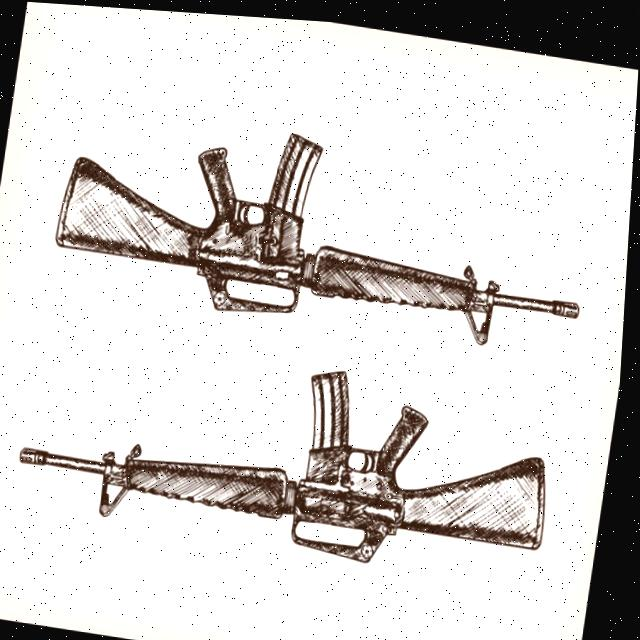firearm: (11, 316, 572, 594), (44, 95, 605, 367)
